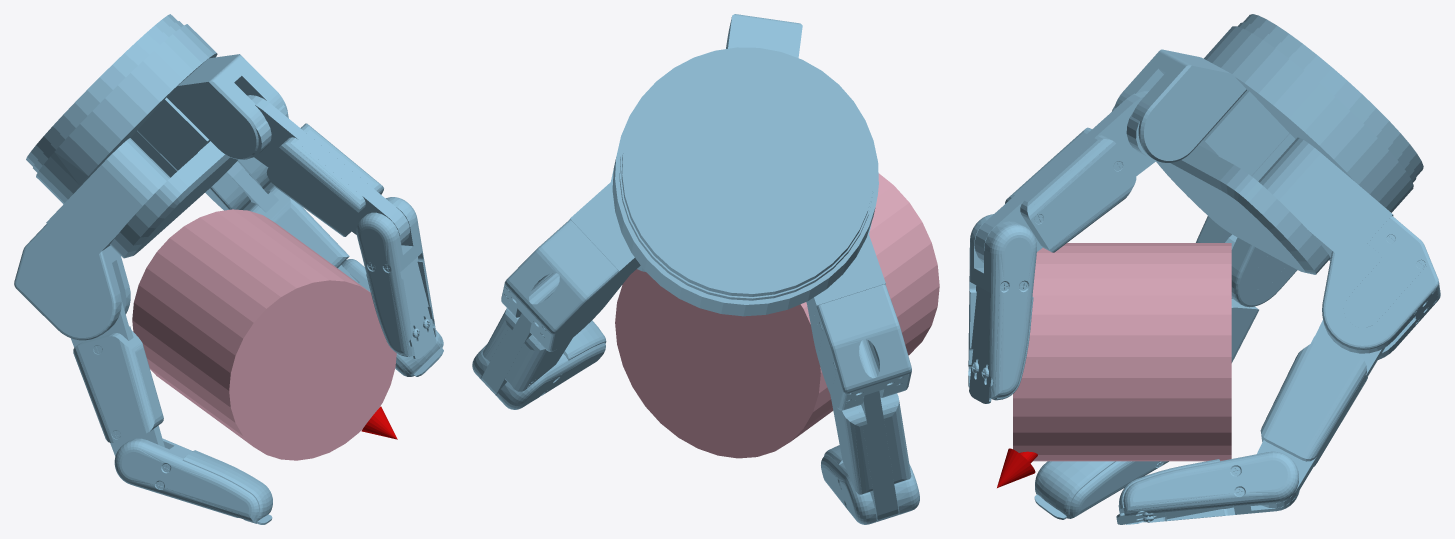
3 views of the same model, side by side, from view 1: azimuth 30°, elevation 25°; view 2: azimuth 150°, elevation 25°; view 3: azimuth 270°, elevation 25° (orthographic). The views are drawn at different scales.
Visible parts, largest first — view 1: world, cylinder_medium.stl; view 2: world, cylinder_medium.stl; view 3: world, cylinder_medium.stl.
Part boxes in pixels (box(x1,y1,x2,y2)): world: box(14, 14, 443, 524); cylinder_medium.stl: box(132, 209, 396, 460); world: box(472, 14, 919, 524); cylinder_medium.stl: box(615, 173, 939, 458); world: box(968, 14, 1440, 524); cylinder_medium.stl: box(1013, 243, 1231, 461).
Bounding box in the file's own units: 0.1719 × 0.1949 × 0.1729.
